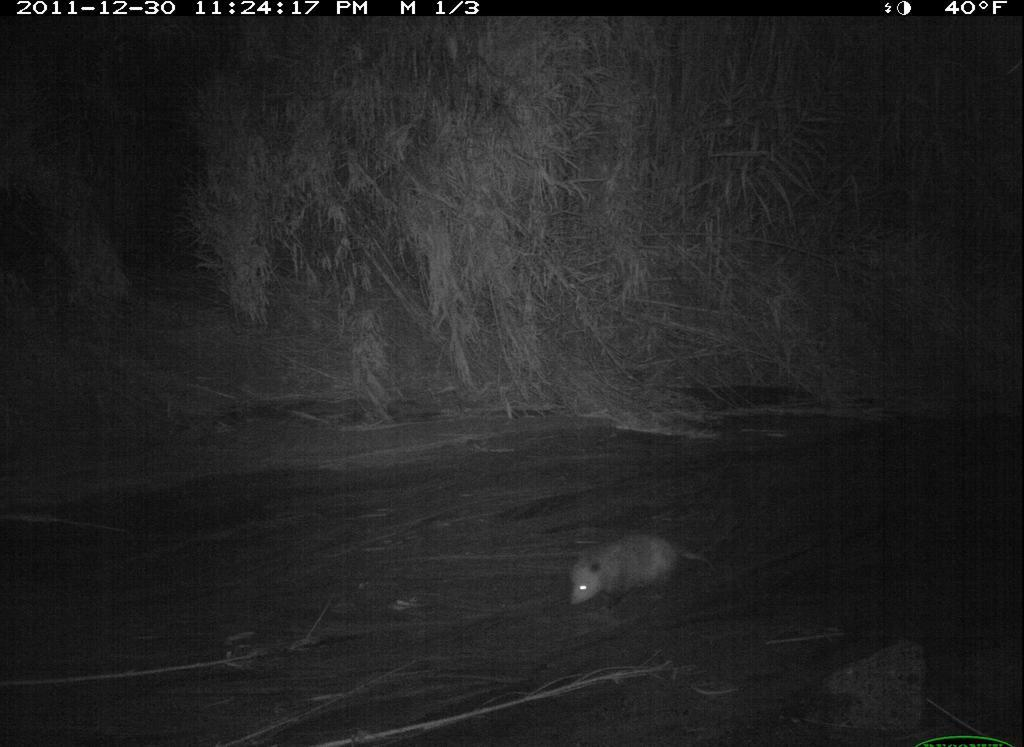opossum: (557, 527, 729, 616)
